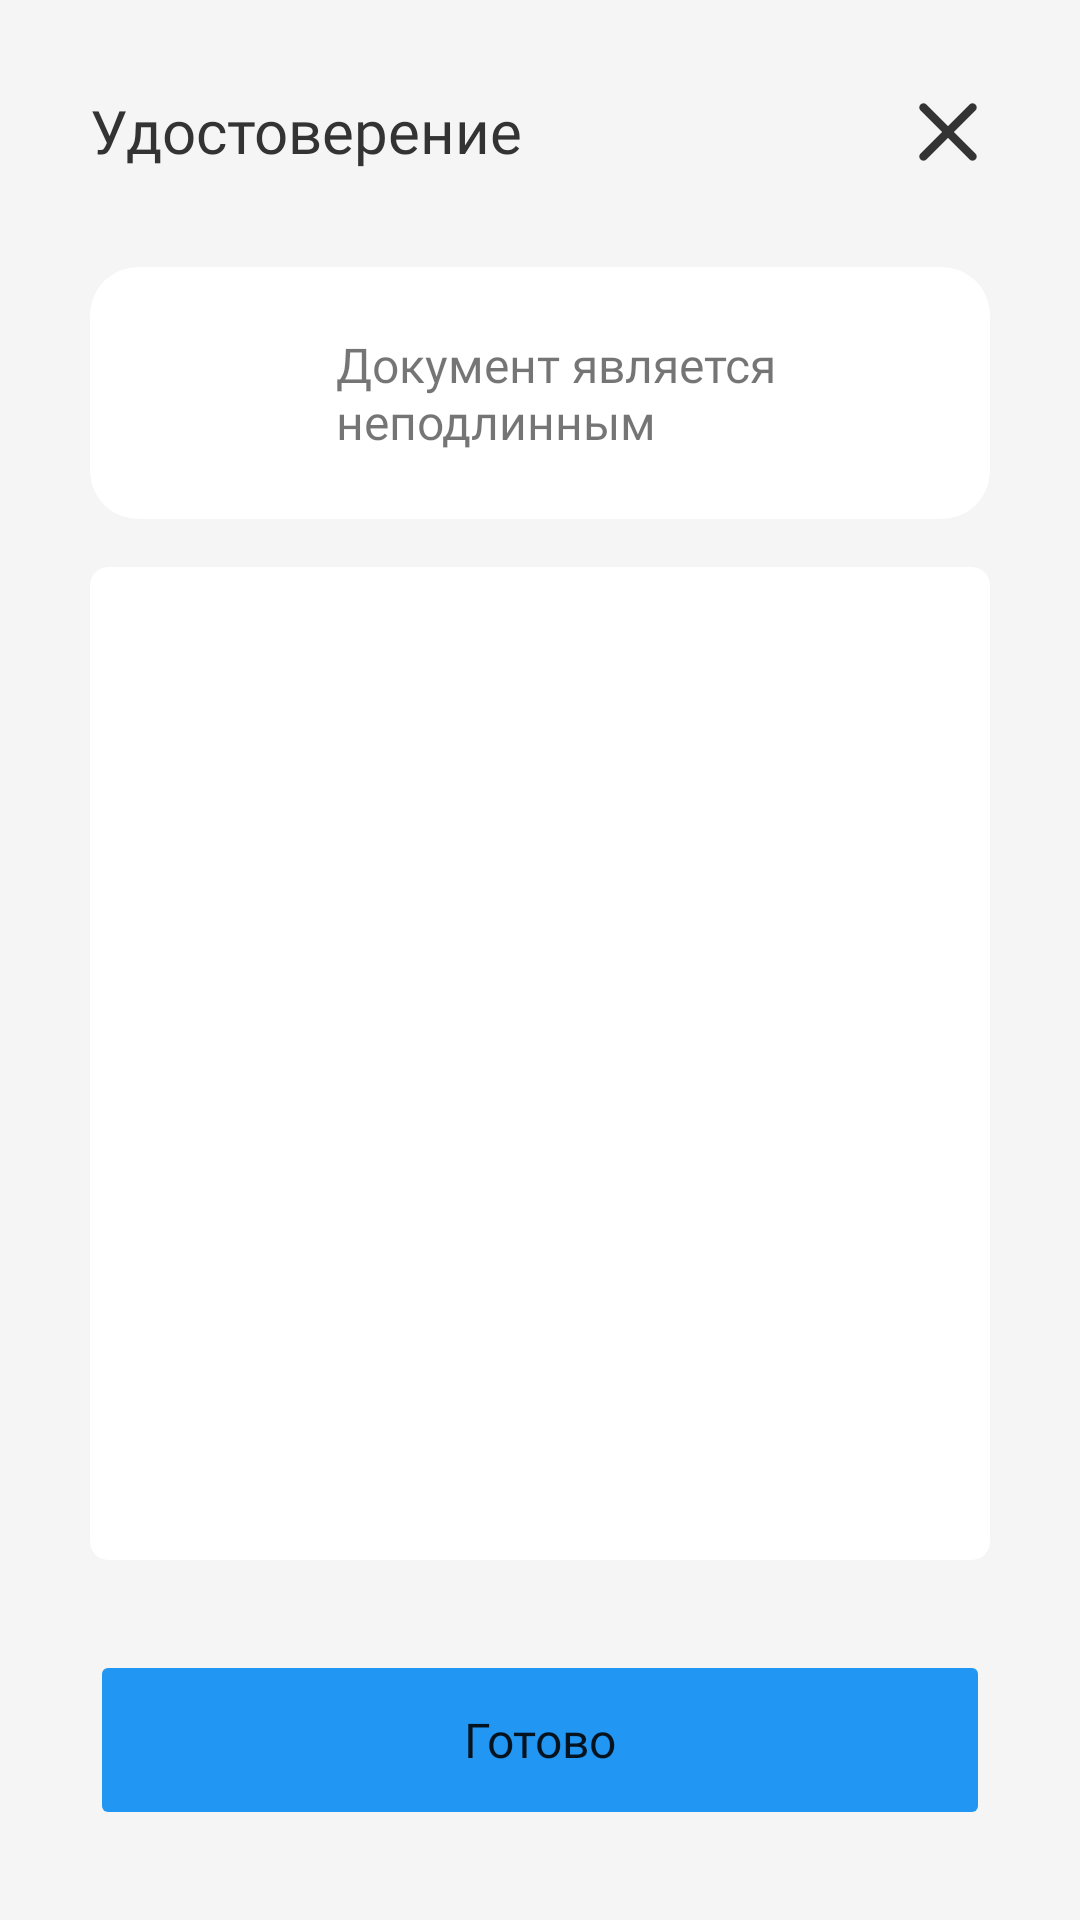

Point at icon controls on the screen. Image size 1080x1920, points as (x,y).
close: (948,132)
